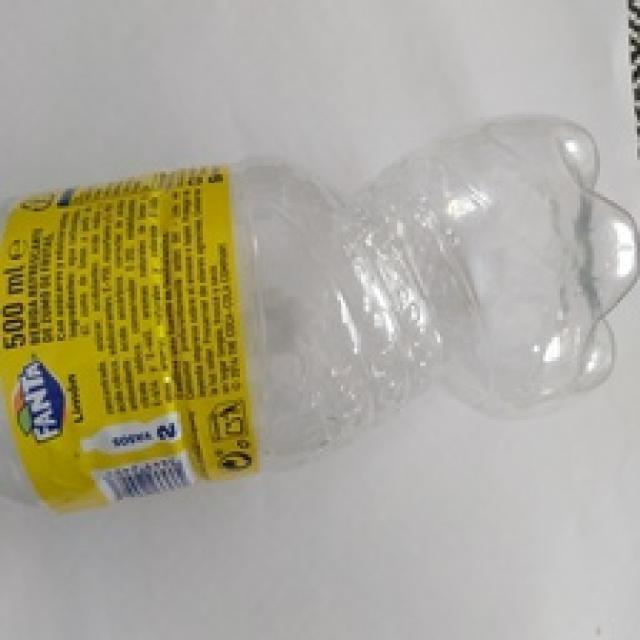Plastic: (0, 112, 635, 517)
